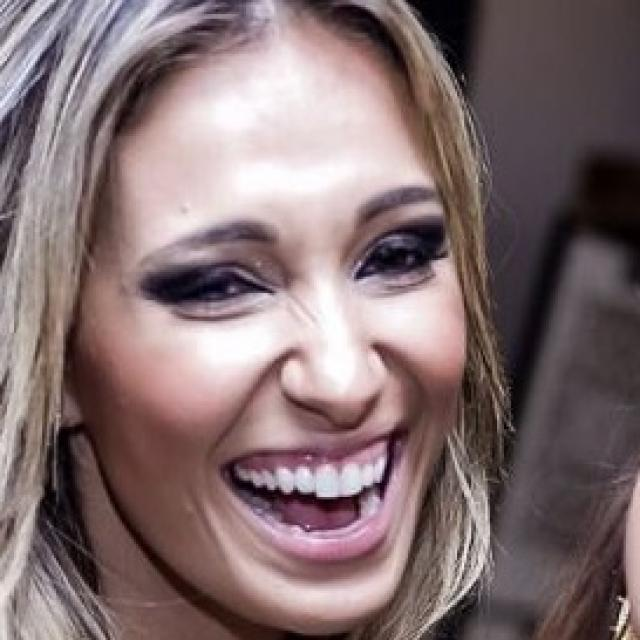Normal: (64, 28, 468, 638)
